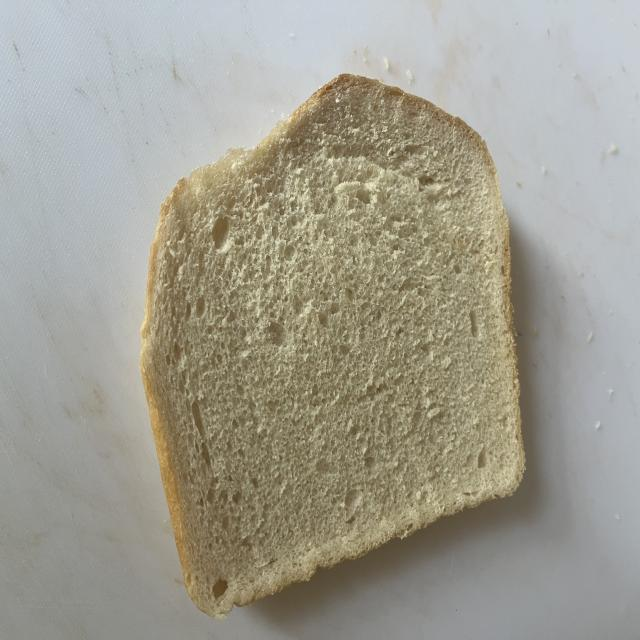sliced_bread: (141, 74, 524, 618)
